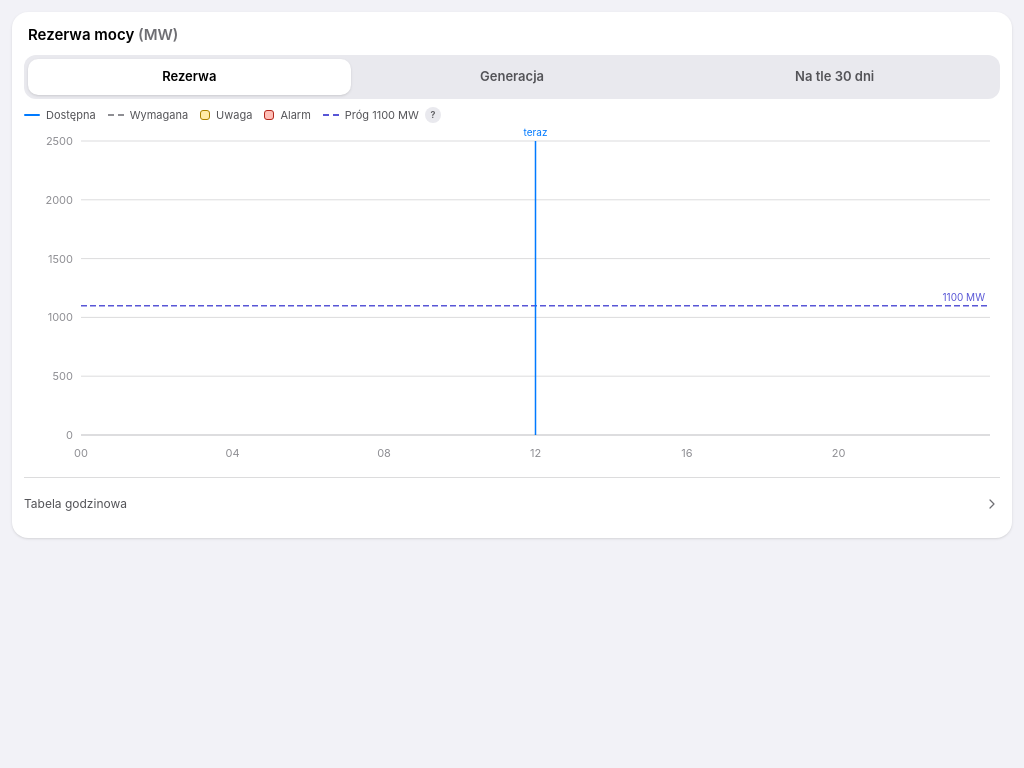
ChartSection › retitles the card to match the active view
Expected: the heading "Rezerwa mocy (MW)" is shown, [28,25,178,44]
Click the tab "Generacja".
click(512, 76)  # box [351,58,673,94]
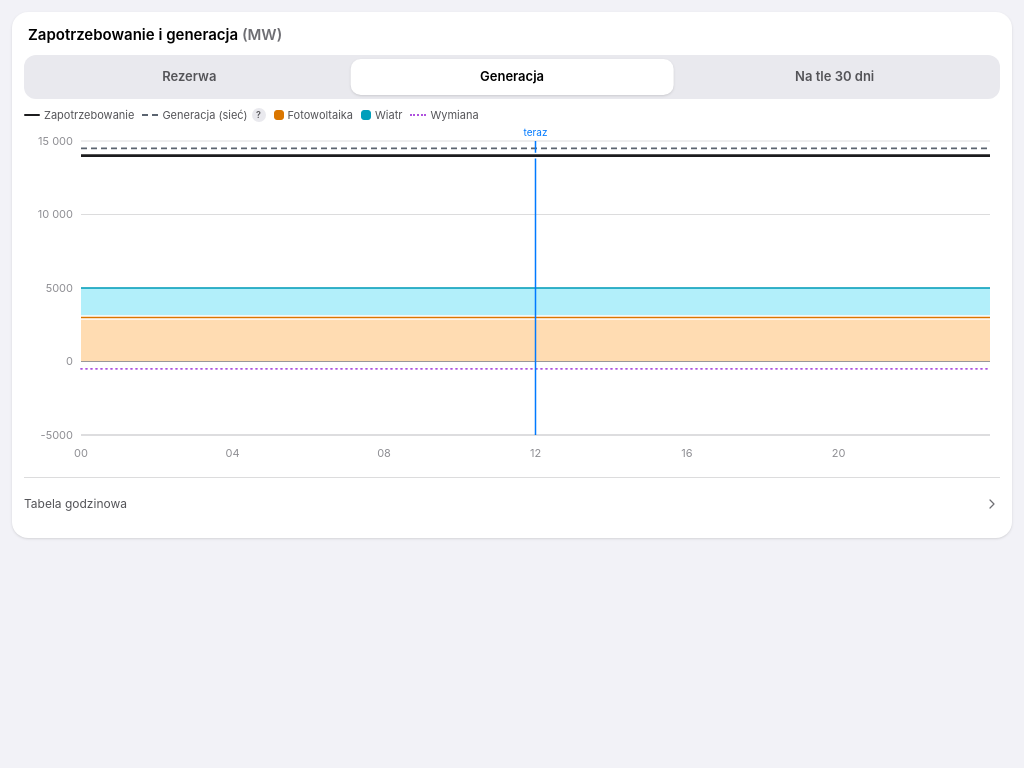
Result: the heading "Zapotrzebowanie i generacja (MW)" is shown at [28,25,282,44]
